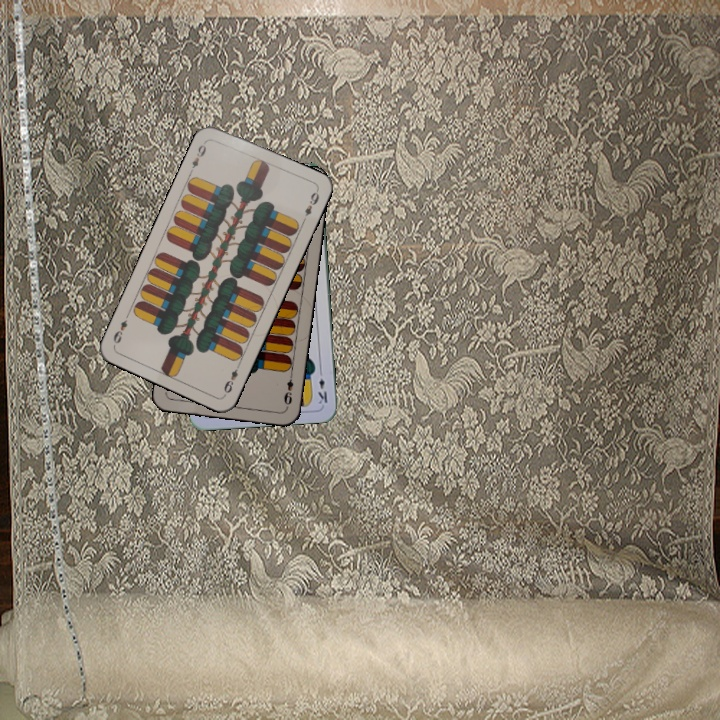E9: (186, 137, 209, 175), (220, 359, 243, 396), (280, 369, 296, 410)
EK: (314, 366, 330, 406)
